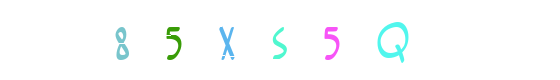5: (134, 0, 214, 80), (292, 0, 372, 80)
8: (131, 0, 211, 80)
Q: (320, 0, 400, 80)
S: (240, 0, 320, 80)
X: (224, 0, 304, 80)
